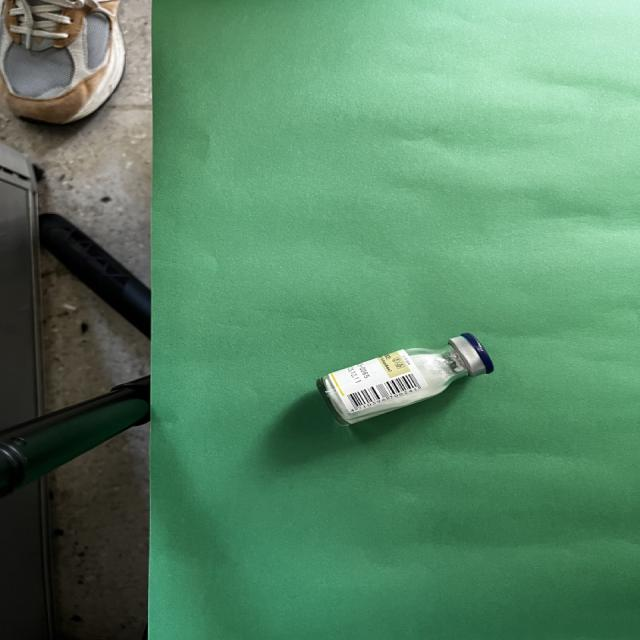Vials: (317, 334, 493, 426)
